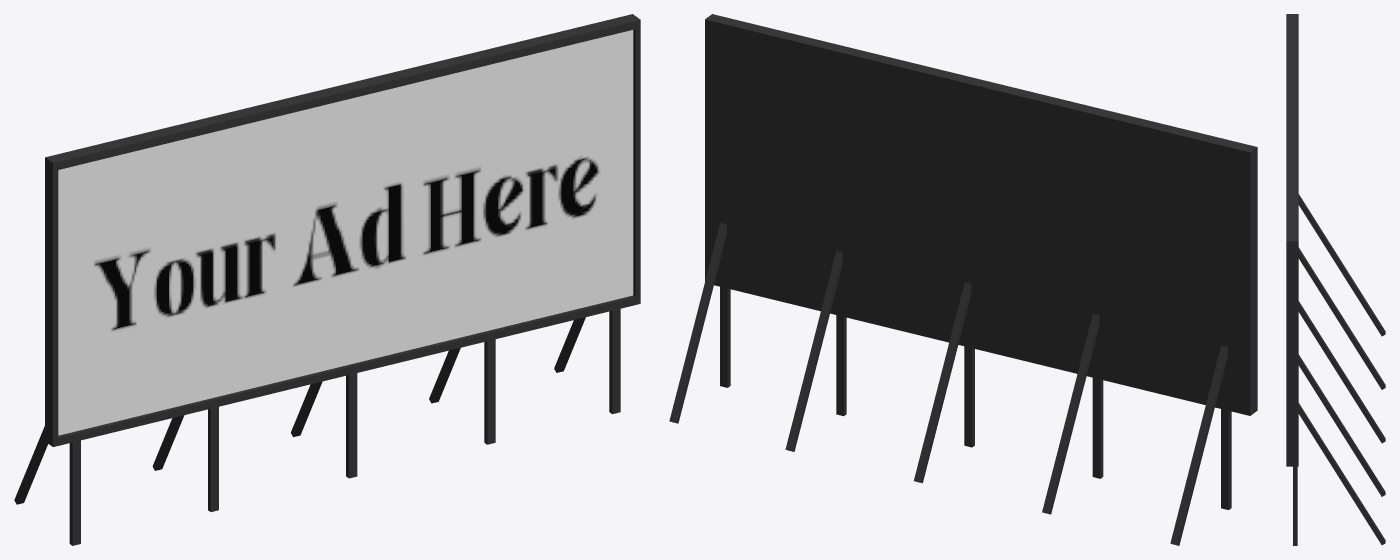
The model's file is Bilbord3.fbx.
3 renders of one model, left to right at view 1: azimuth 30°, elevation 25°; view 2: azimuth 150°, elevation 25°; view 3: azimuth 270°, elevation 25°, orthographic. The views are drawn at different scales.
Visible parts, largest first — view 1: add_advertaisment__3, bill_board__3; view 2: bill_board__3; view 3: bill_board__3.
Part boxes in pixels (box(x1,y1,x2,y2)): add_advertaisment__3: box(58, 30, 633, 435); bill_board__3: box(14, 14, 640, 545); bill_board__3: box(669, 14, 1257, 545); bill_board__3: box(1286, 14, 1385, 545).
Bounding box in the file's own units: 2100 × 1338 × 389.
2 materials, 1 textured.
